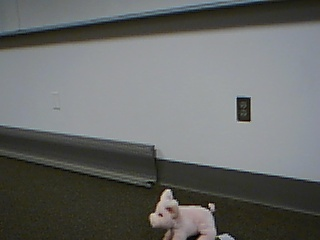piggy: (148, 187, 219, 240)
